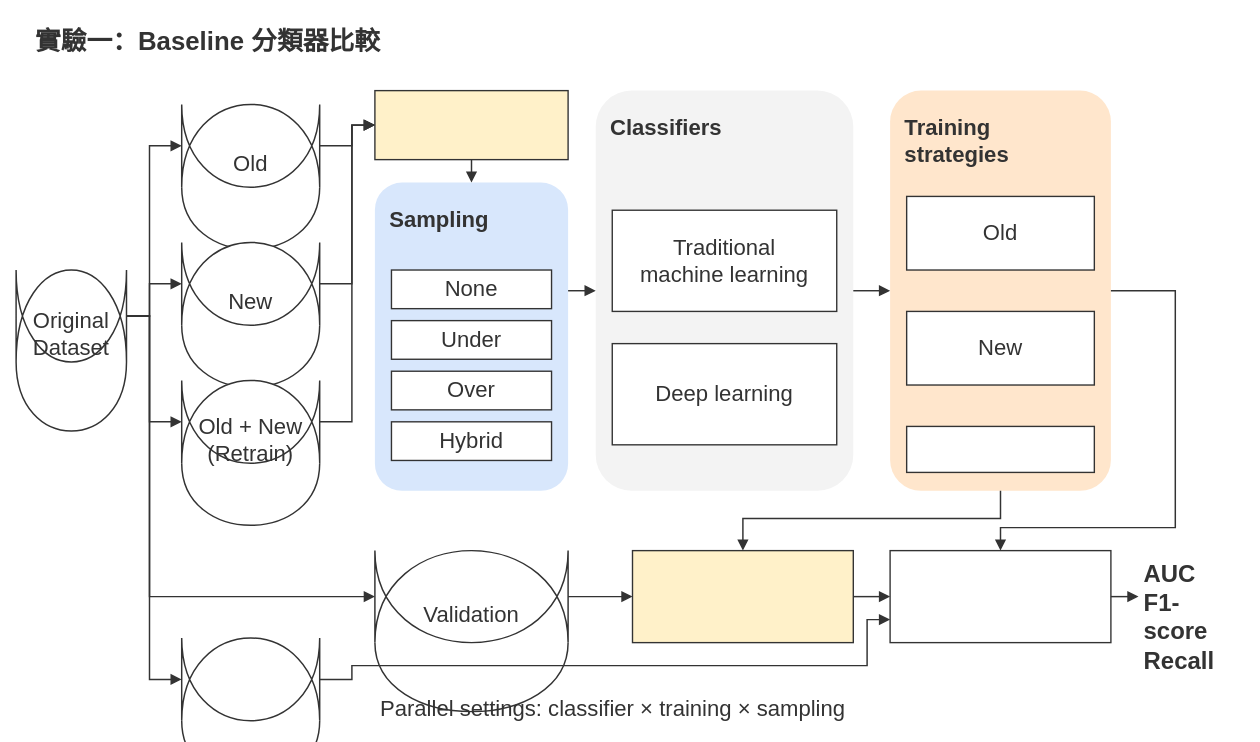
Some shapes in this 1260 by 742 pixel diagram are drawn without their labels. The shapes that lost their labels are listed below. From the top down, each one's centre as x and y in pixels, then its label:
the point at 471,125: Preprocess
the point at 1000,449: Retrain
the point at 742,596: Validation tuning + fixed threshold
the point at 1000,596: Test inference
the point at 250,679: Test
